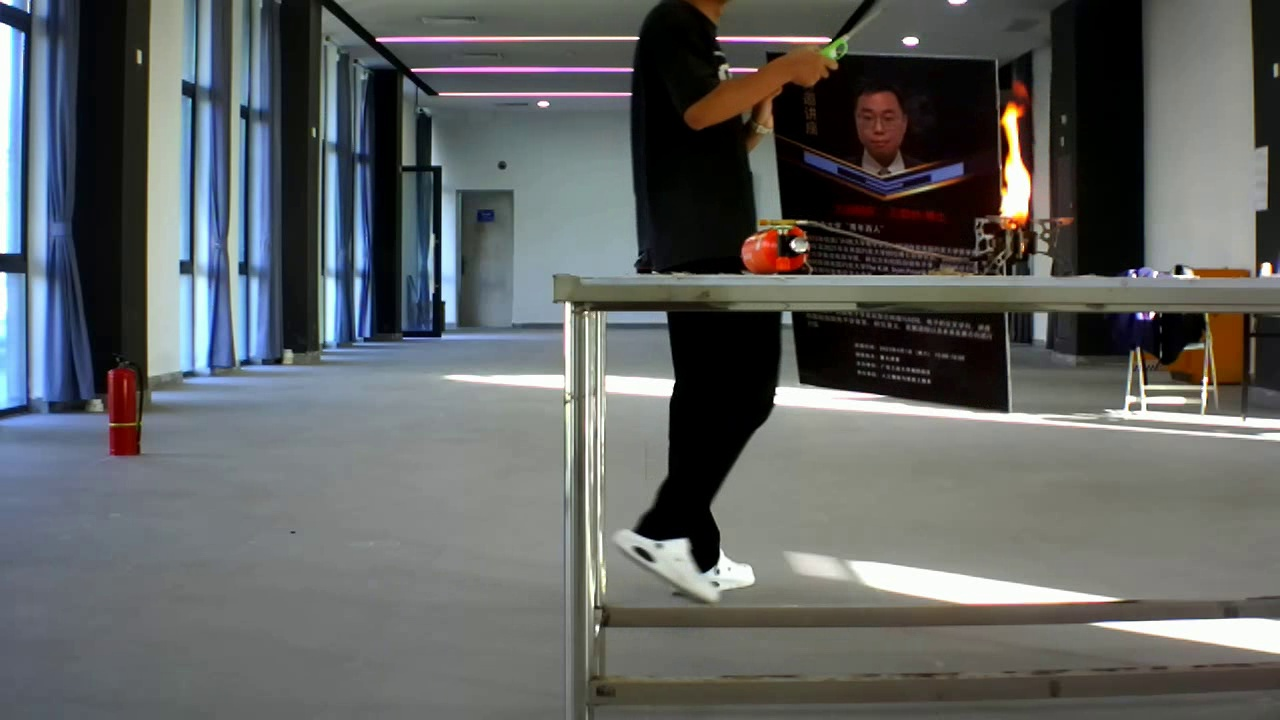Fire: (985, 66, 1040, 230)
